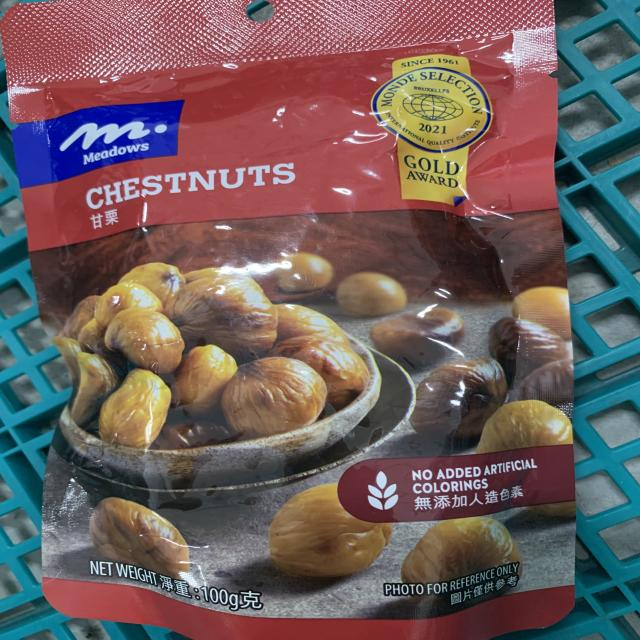object_name: (17, 3, 565, 623)
